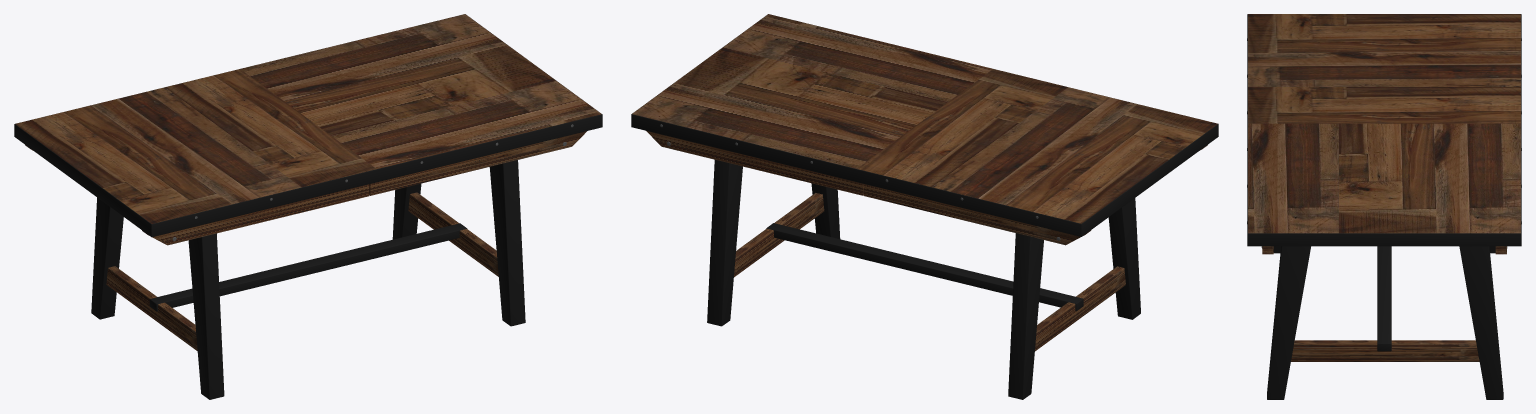
The model's file is example25.glb.
3 views of the same model, side by side, from view 1: azimuth 30°, elevation 25°; view 2: azimuth 150°, elevation 25°; view 3: azimuth 270°, elevation 25° (orthographic).
Parts seen in each view (by area): view 1: Buffer Layer (×3), Merged Objects 3, Merged Objects 1, Merged Objects 2; view 2: Buffer Layer (×3), Merged Objects 3, Merged Objects 1, Merged Objects 2; view 3: Buffer Layer (×3), Merged Objects 3, Merged Objects 2.
Part boxes in pixels (box(x1,y1,x2,y2)): Buffer Layer (×3): box(14, 14, 602, 237); Merged Objects 3: box(91, 160, 525, 399); Merged Objects 1: box(25, 131, 586, 245); Merged Objects 2: box(106, 192, 498, 350); Buffer Layer (×3): box(631, 14, 1218, 236); Merged Objects 3: box(707, 160, 1140, 399); Merged Objects 1: box(646, 131, 1207, 245); Merged Objects 2: box(734, 193, 1125, 351); Buffer Layer (×3): box(1247, 14, 1521, 246); Merged Objects 3: box(1267, 246, 1503, 399); Merged Objects 2: box(1291, 340, 1479, 361).
Bounding box in the file's own units: 0.596 × 0.252 × 0.3151.
5 materials, 2 textured.
